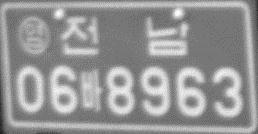0: (14, 64, 45, 115)
3: (211, 65, 245, 119)
6: (174, 66, 207, 118), (48, 64, 78, 115)
8: (105, 65, 135, 116)
9: (138, 65, 172, 117)
바: (79, 68, 105, 113)
영: (16, 15, 51, 53)
전남_D: (59, 16, 189, 56)
